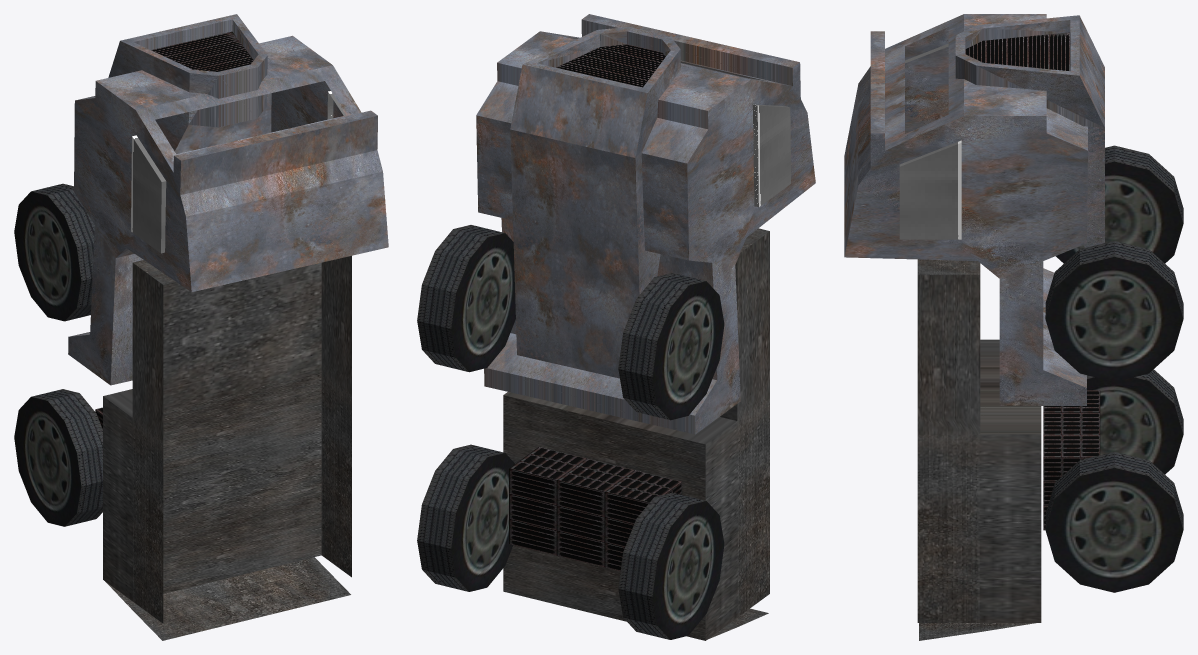
File: Truck4WheelDump_wtf.obj
3 renders of one model, left to right at view 1: azimuth 30°, elevation 25°; view 2: azimuth 150°, elevation 25°; view 3: azimuth 270°, elevation 25°, orthographic. The views are drawn at different scales.
Visible parts, largest first — view 1: group18, group20, group21, group22, group15, group6, group5, group19, group14, group13; view 2: group18, group20, group21, group17, group15, group6, group9, group3, group5, group8, group14, group2 (+2 smaller); view 3: group18, group21, group10, group4, group7, group16, group19, group17, group20, group13, group2, group8 (+3 smaller).
Boxes of the visible parts, <box> form: group18: <box>68,14,388,385</box>; group20: <box>103,260,321,593</box>; group21: <box>103,256,351,623</box>; group22: <box>105,557,350,640</box>; group15: <box>14,191,81,321</box>; group6: <box>14,397,81,526</box>; group5: <box>31,389,102,526</box>; group19: <box>131,91,345,253</box>; group14: <box>31,183,94,321</box>; group13: <box>151,31,253,71</box>; group18: <box>476,14,815,434</box>; group20: <box>503,228,769,640</box>; group21: <box>705,231,769,640</box>; group17: <box>509,447,682,571</box>; group15: <box>652,281,724,420</box>; group6: <box>652,501,724,639</box>; group9: <box>451,233,515,371</box>; group3: <box>451,453,514,591</box>; group5: <box>618,492,705,639</box>; group8: <box>417,225,504,371</box>; group14: <box>618,273,705,419</box>; group2: <box>417,444,504,591</box>; group18: <box>844,14,1104,405</box>; group21: <box>917,274,1041,622</box>; group10: <box>1045,257,1183,381</box>; group4: <box>1045,468,1183,592</box>; group7: <box>1087,377,1183,474</box>; group16: <box>1056,161,1183,263</box>; group19: <box>899,43,961,239</box>; group17: <box>1043,390,1100,530</box>; group20: <box>917,259,1041,434</box>; group13: <box>965,32,1070,71</box>; group2: <box>1045,451,1183,529</box>; group8: <box>1045,241,1183,318</box>.
Size of the model in its own units: 284 by 660 by 369.
